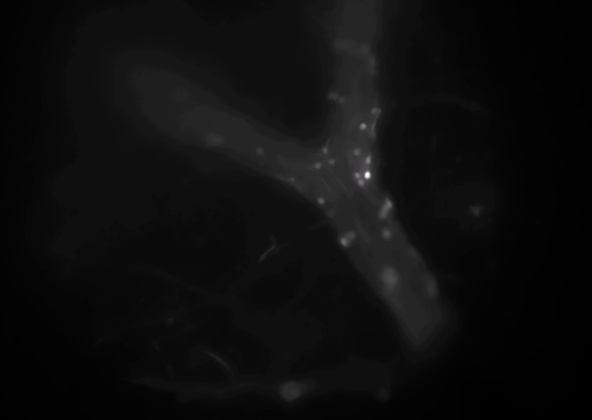cell: (360, 168, 374, 182), (355, 119, 369, 133), (370, 104, 384, 118), (349, 146, 363, 160), (361, 153, 375, 167), (316, 141, 330, 155), (311, 157, 325, 171), (325, 154, 339, 168), (326, 89, 340, 103), (350, 169, 364, 183), (335, 92, 349, 106), (353, 177, 367, 191), (337, 236, 351, 250), (382, 272, 396, 286), (380, 227, 394, 241), (381, 197, 395, 211), (377, 206, 391, 220), (377, 202, 391, 216), (312, 195, 326, 209), (345, 227, 359, 241), (284, 172, 298, 186), (253, 144, 267, 158), (207, 134, 221, 148), (425, 280, 439, 294), (357, 42, 371, 56), (366, 54, 380, 68), (334, 40, 348, 54), (366, 130, 380, 144)
